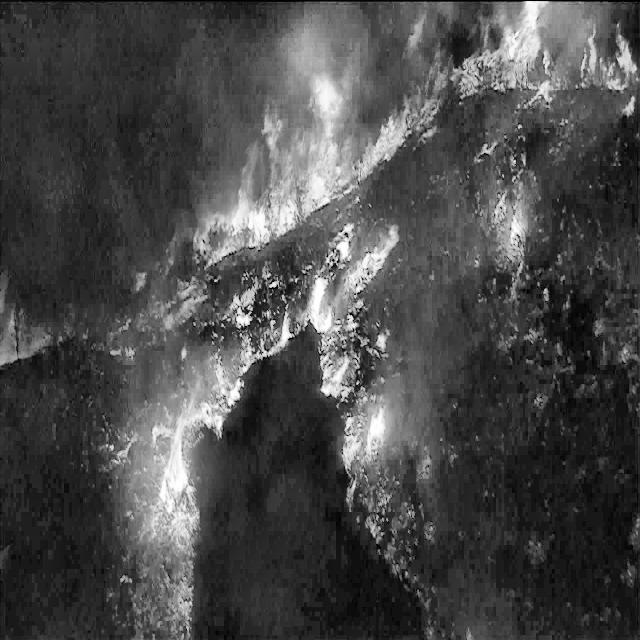fire: (114, 276, 432, 529), (178, 125, 486, 263), (441, 0, 603, 140), (502, 147, 576, 372)
